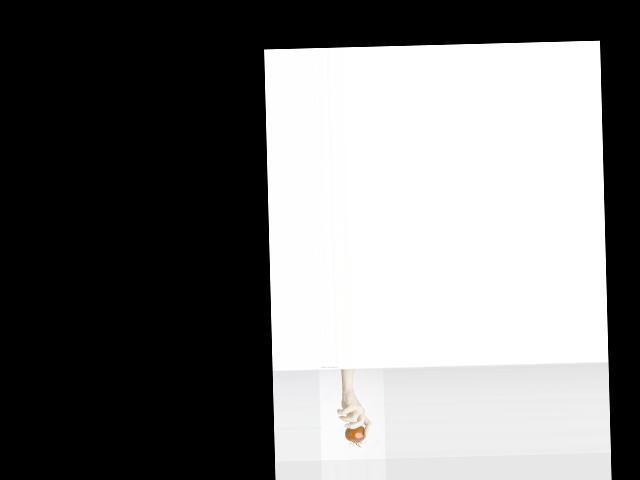tomato: (344, 426, 365, 448)
